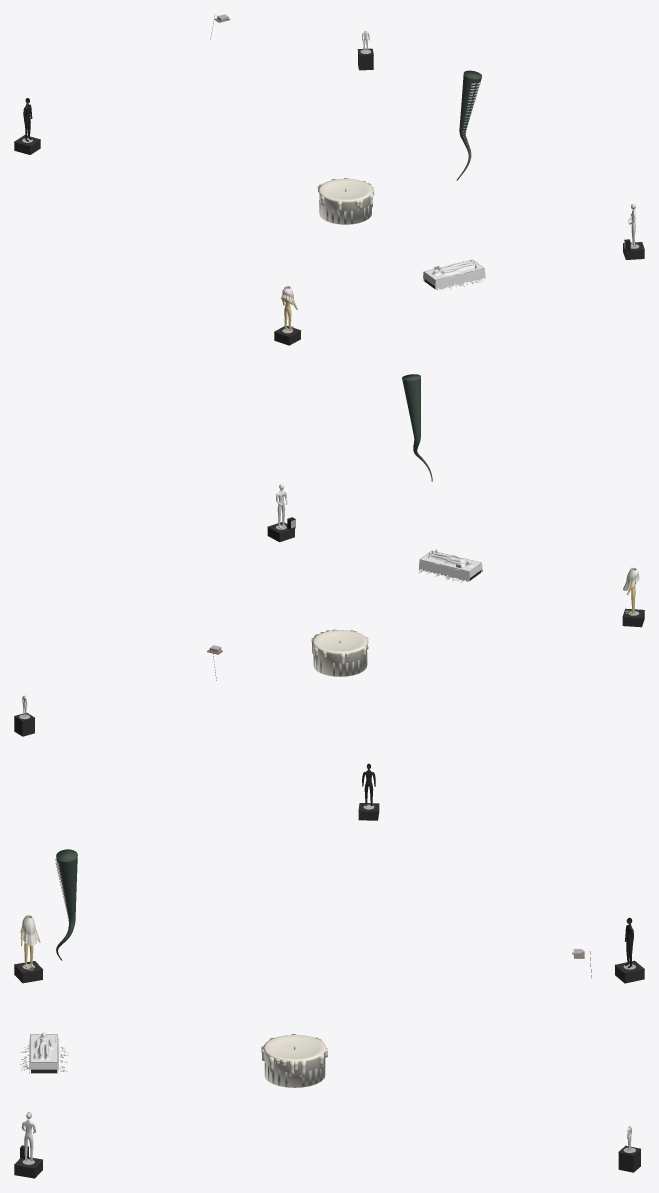
Rendered from props.glb.
3 renders of one model, top to bottom at view 1: azimuth 30°, elevation 25°; view 2: azimuth 150°, elevation 25°; view 3: azimuth 270°, elevation 25°, orthographic. The views are drawn at different scales.
Parts seen in each view (by area): view 1: candle_pillar_a, bier_sonnet3, tentacle, mannequin_opus3, mannequin_opus4, mannequin_sonnet4; view 2: candle_pillar_a, bier_sonnet3, tentacle, mannequin_sonnet4, mannequin_opus3, mannequin_opus4; view 3: candle_pillar_a, bier_sonnet3, tentacle, mannequin_opus3, mannequin_sonnet4, mannequin_opus4, mannequin_haiku3.
Boxes of the visible parts, x1,y1,x2,y2 form: candle_pillar_a: (318, 178, 374, 224); bier_sonnet3: (422, 259, 485, 290); tentacle: (456, 70, 481, 180); mannequin_opus3: (274, 286, 301, 345); mannequin_opus4: (14, 98, 40, 154); mannequin_sonnet4: (623, 204, 644, 259); candle_pillar_a: (312, 629, 367, 676); bier_sonnet3: (418, 549, 482, 582); tentacle: (402, 374, 432, 481); mannequin_sonnet4: (267, 484, 295, 542); mannequin_opus3: (622, 567, 644, 627); mannequin_opus4: (358, 763, 379, 820); candle_pillar_a: (263, 1034, 328, 1087); bier_sonnet3: (20, 1032, 67, 1073); tentacle: (55, 849, 77, 960); mannequin_opus3: (14, 915, 43, 983); mannequin_sonnet4: (14, 1112, 42, 1178); mannequin_opus4: (615, 917, 644, 983); mannequin_haiku3: (618, 1126, 640, 1172).
Size of the model in its own units: 16.08 by 8.56 by 20.63.
